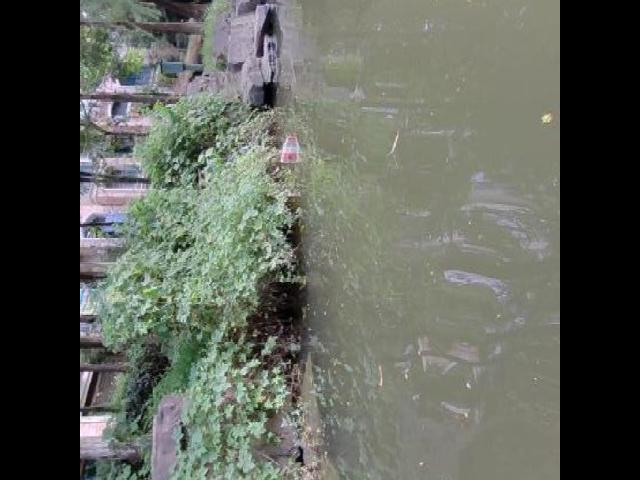Bottle: (274, 126, 298, 170)
